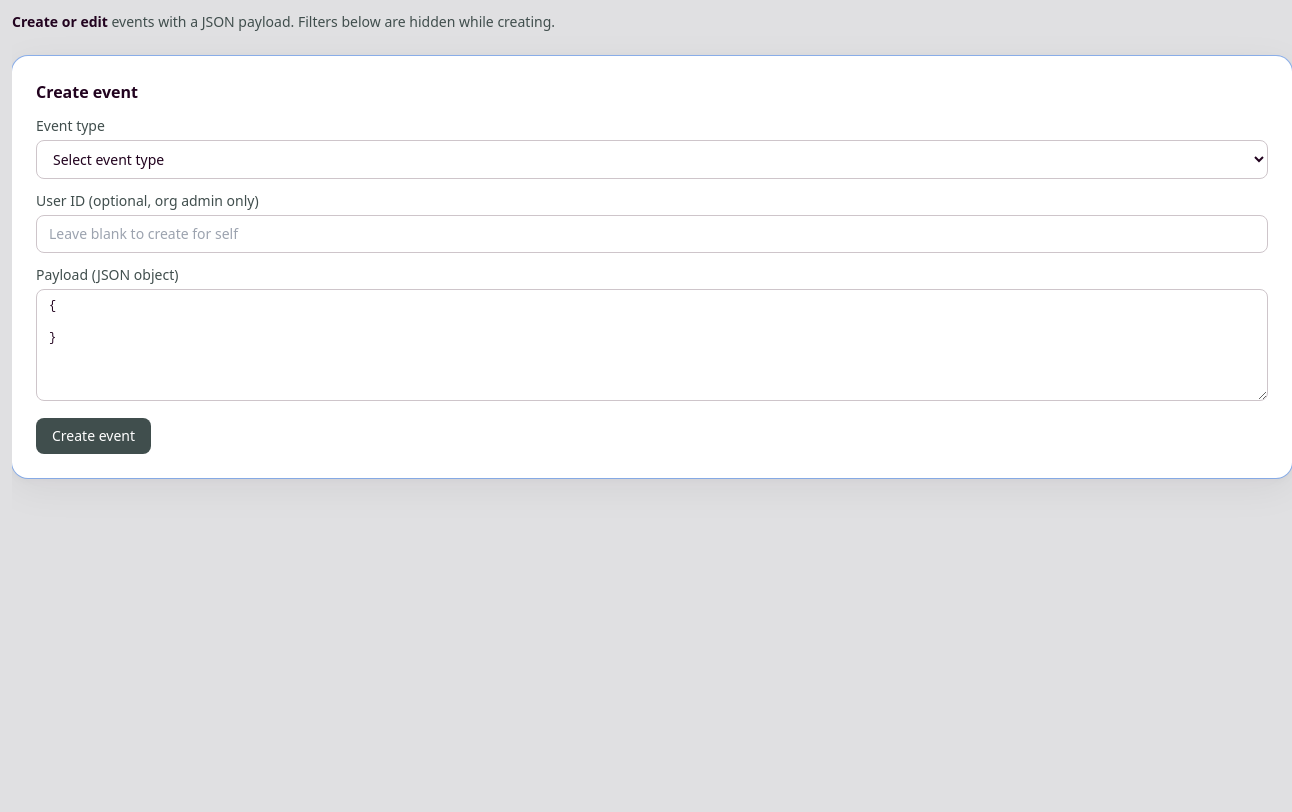
Test: EventsPageClient › validates payload and shows recommended action
This screenshot has width=1292, height=812.
Step 1. Select "Order Created" in the dropdown labelled "Event type" → [652, 160], box [36,140,1268,179]
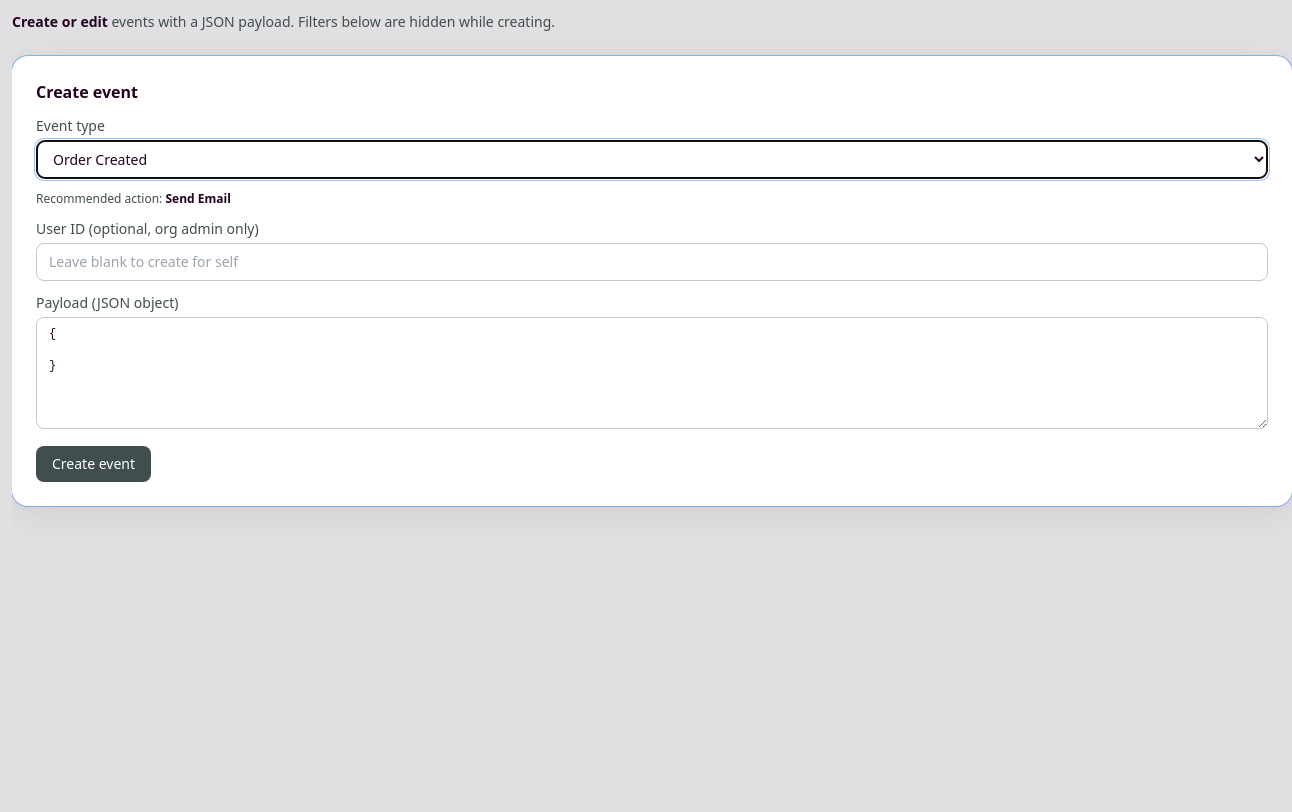
Expected: the text "Recommended action: Send Email" is shown, [36,190,231,207]
Step 2. Replace the text in the text box labelled "Payload (JSON object)" with "not-json" → [652, 373], box [36,317,1268,429]
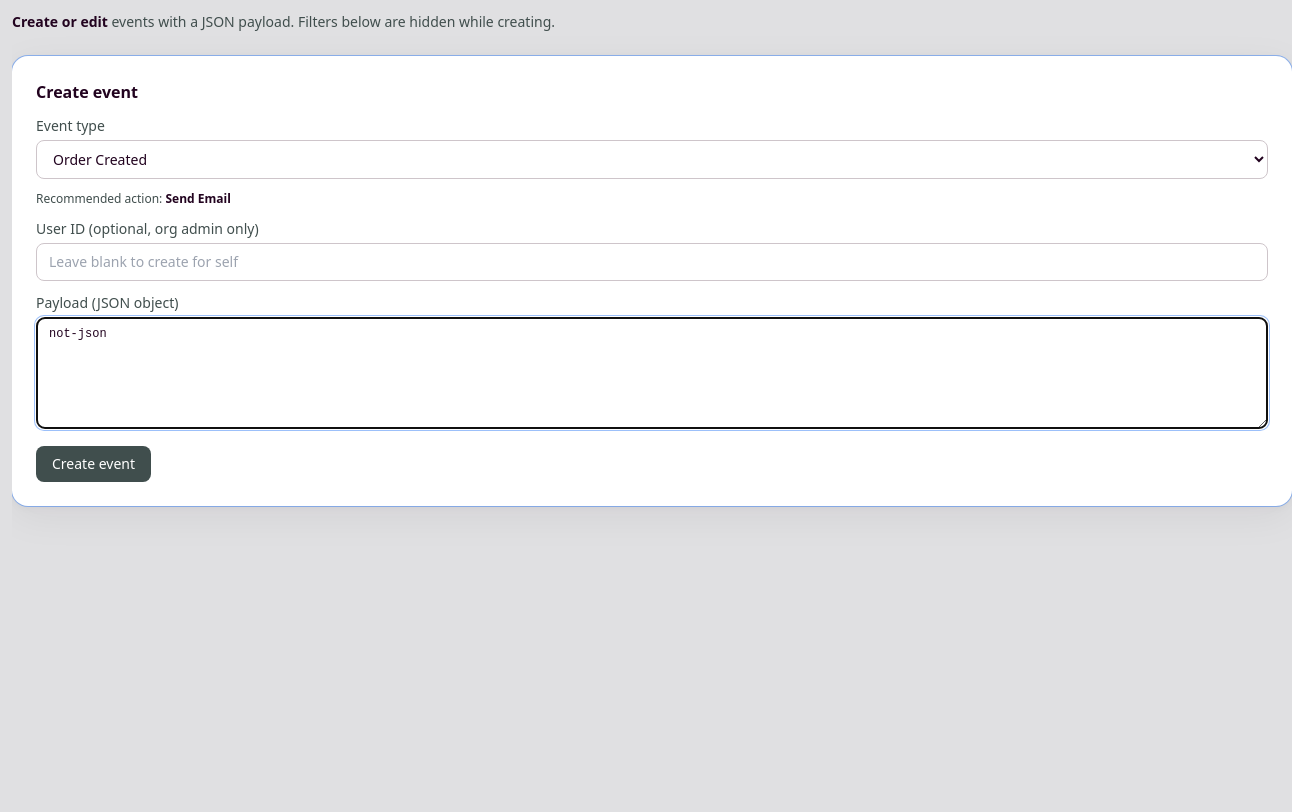
Step 3. Click the button "Create event" → [94, 464], box [36,446,151,482]
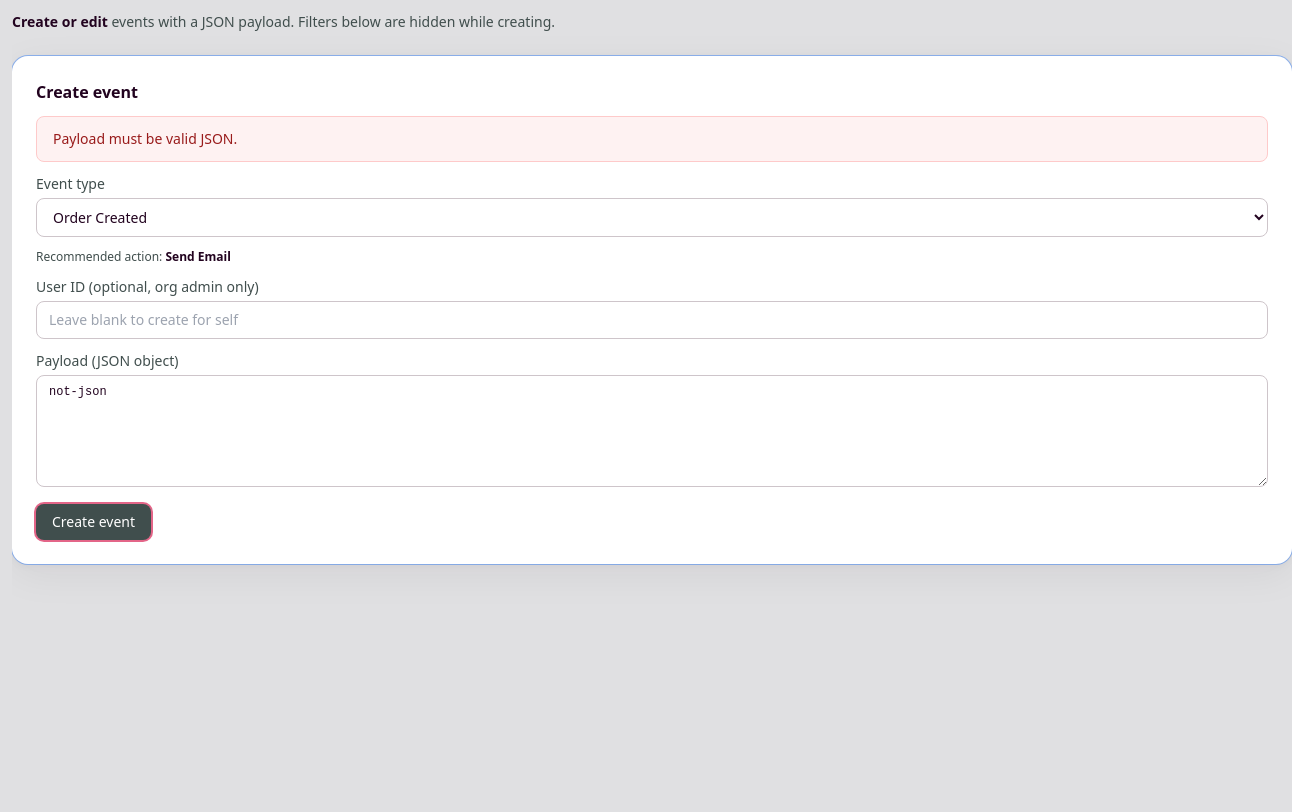
Expected: the text "Payload must be valid JSON." is shown, [36,116,1268,162]
